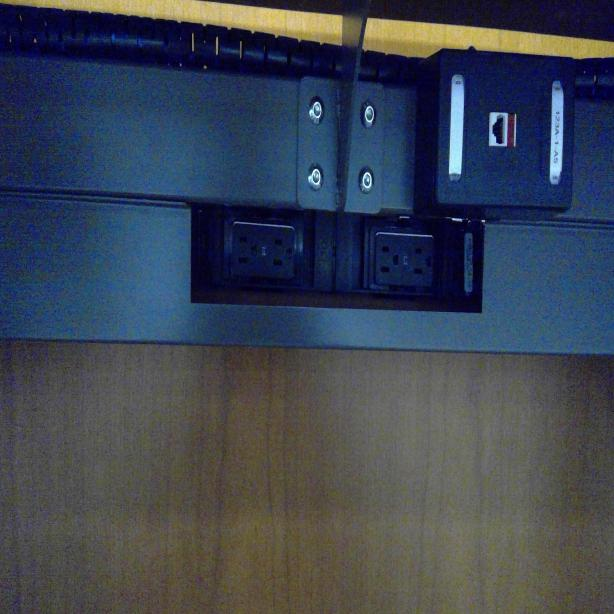typeb: (234, 228, 258, 274), (377, 240, 400, 282), (410, 244, 432, 284), (270, 236, 292, 273)
